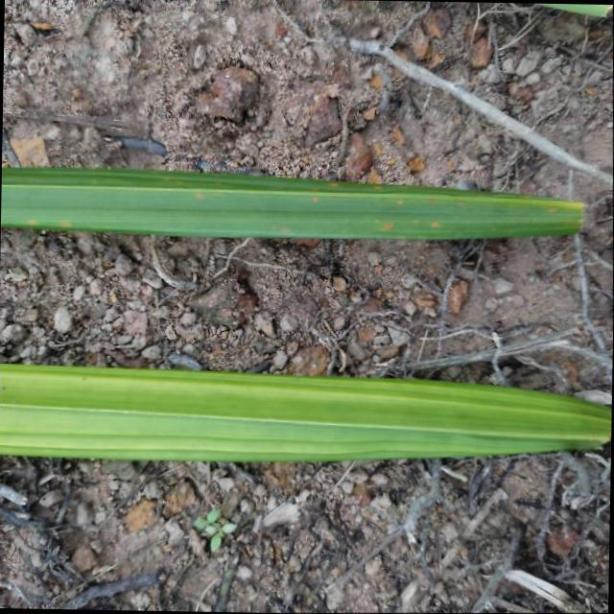nitrogen: (0, 358, 604, 463), (0, 166, 566, 241)
